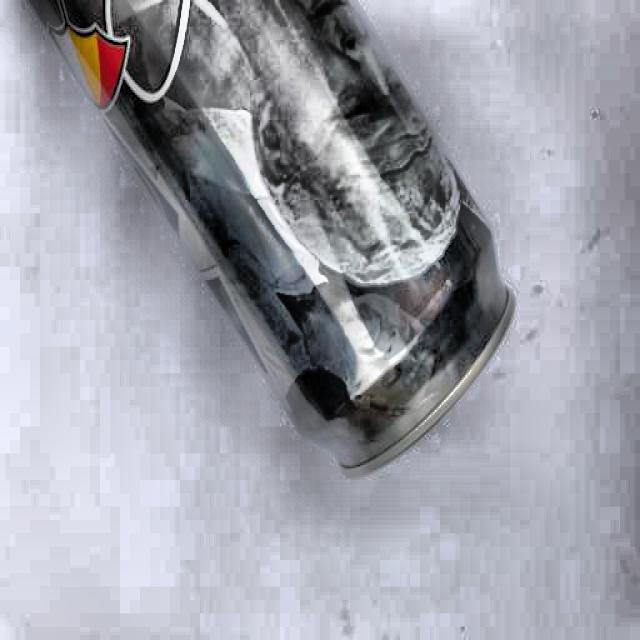metal: (23, 0, 517, 466)
